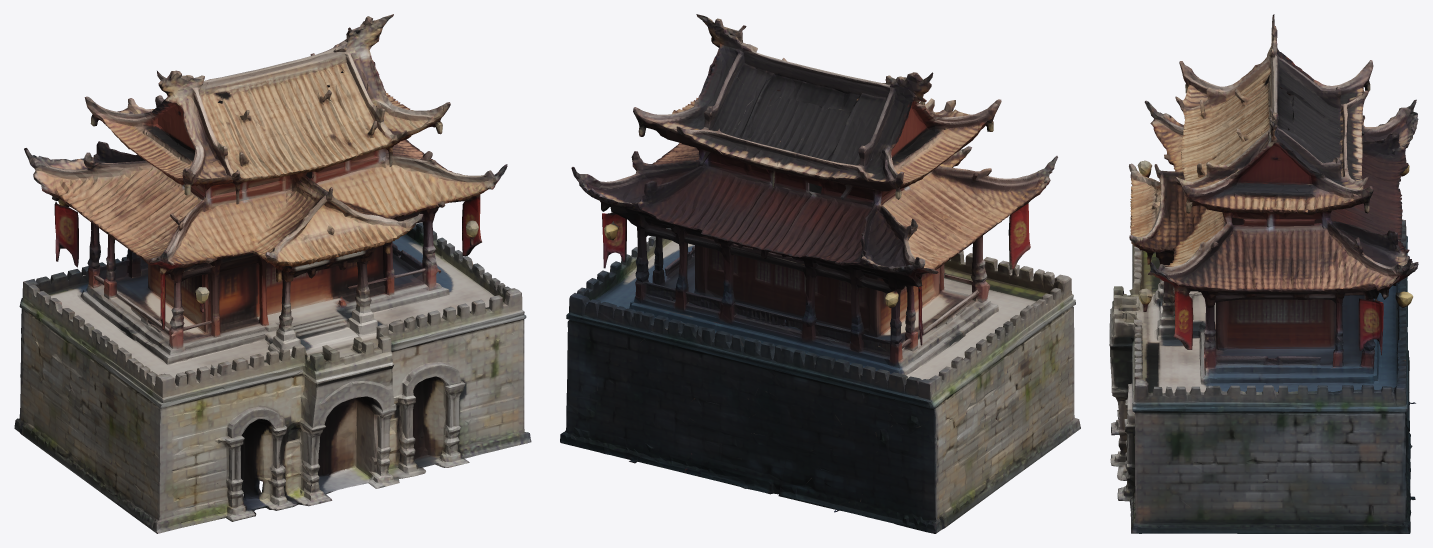
File: dv-01-tam-quan.glb
The picture shows the model from 3 angles, left to right: view 1: azimuth 30°, elevation 25°; view 2: azimuth 150°, elevation 25°; view 3: azimuth 270°, elevation 25°; orthographic projection. The views are drawn at different scales.
Parts seen in each view (by area): view 1: world; view 2: world; view 3: world.
Part boxes in pixels (x1,y1,x2,y2): world: (14,14,531,533); world: (560,14,1080,533); world: (1109,14,1418,533).
Bounding box in the file's own units: 1 × 1 × 0.7386.
1 material, 1 textured.
